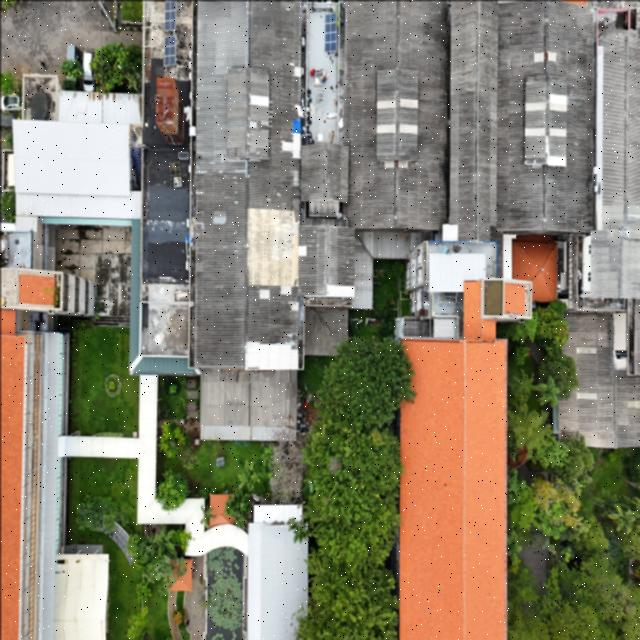Tree: (150, 462, 190, 514), (92, 44, 132, 92), (605, 502, 634, 534), (123, 607, 150, 640), (236, 462, 261, 492), (0, 68, 15, 98)
